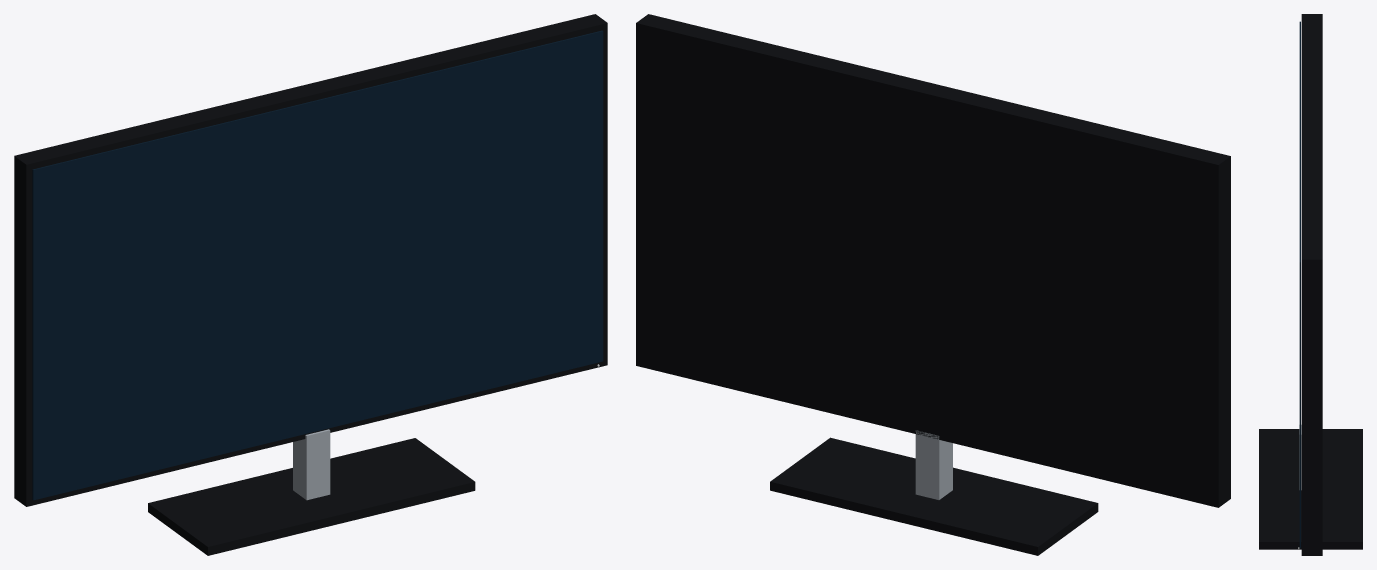
3 views of the same model, side by side, from view 1: azimuth 30°, elevation 25°; view 2: azimuth 150°, elevation 25°; view 3: azimuth 270°, elevation 25° (orthographic). The views are drawn at different scales.
Size of the model in its own units: 1.23 by 0.8319 by 0.22.
